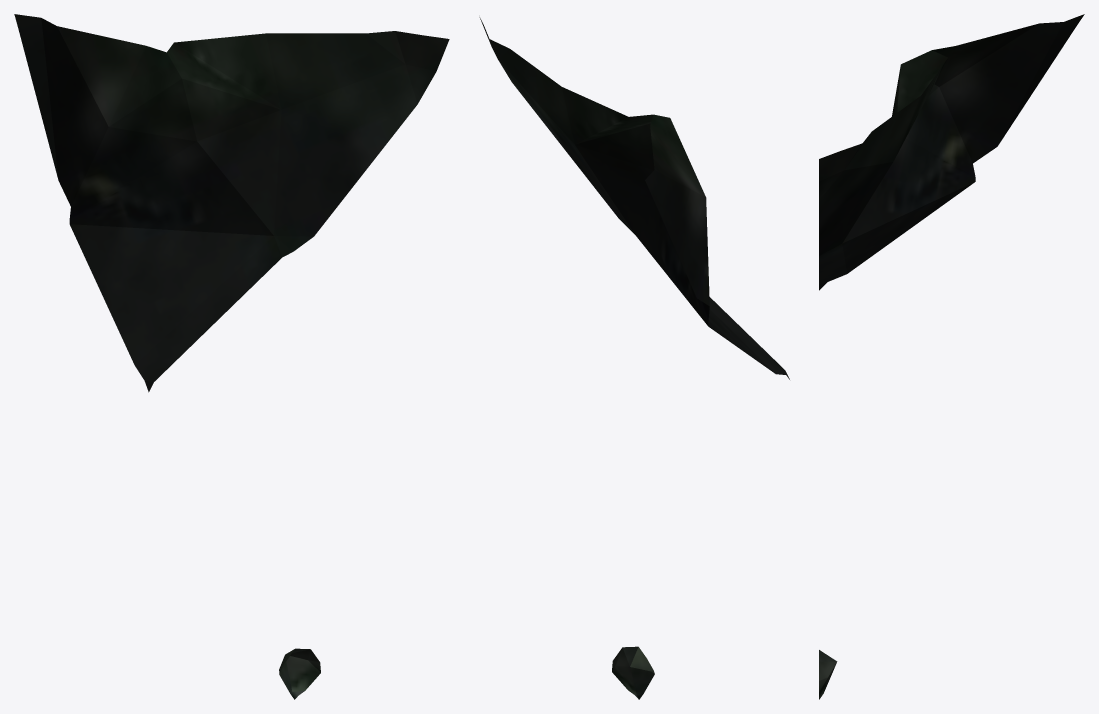
3 views of the same model, side by side, from view 1: azimuth 30°, elevation 25°; view 2: azimuth 150°, elevation 25°; view 3: azimuth 270°, elevation 25° (orthographic). The views are drawn at different scales.
Bounding box in the file's own units: 0.2715 × 0.5373 × 0.2102.
1 material, 1 textured.
